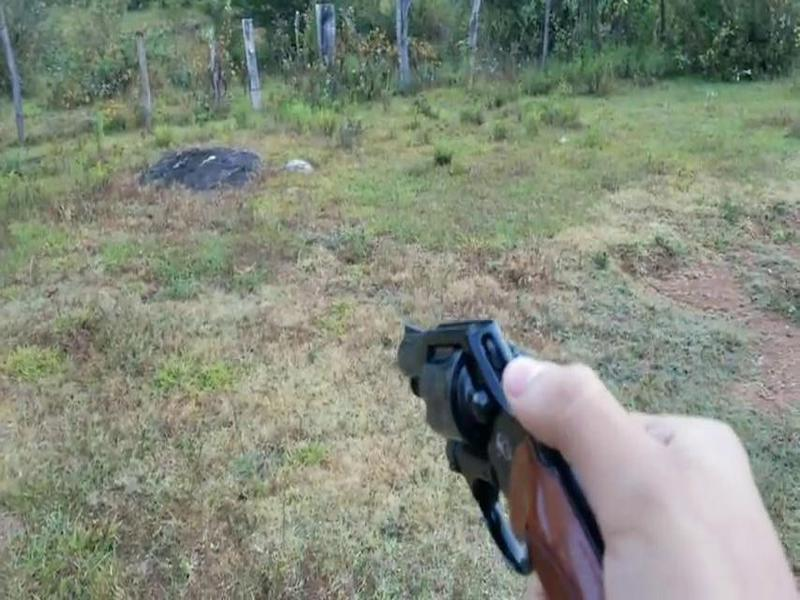Revolver: (385, 320, 617, 599)
